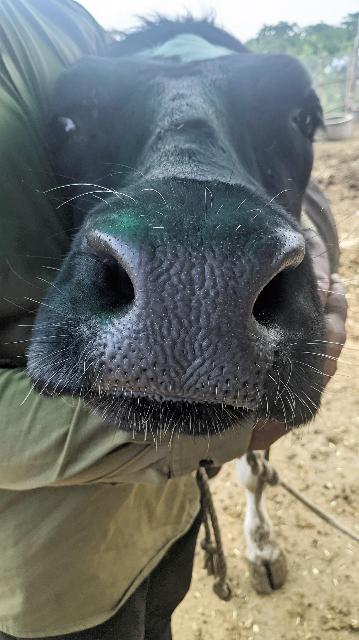Muzzle: (97, 220, 265, 410)
